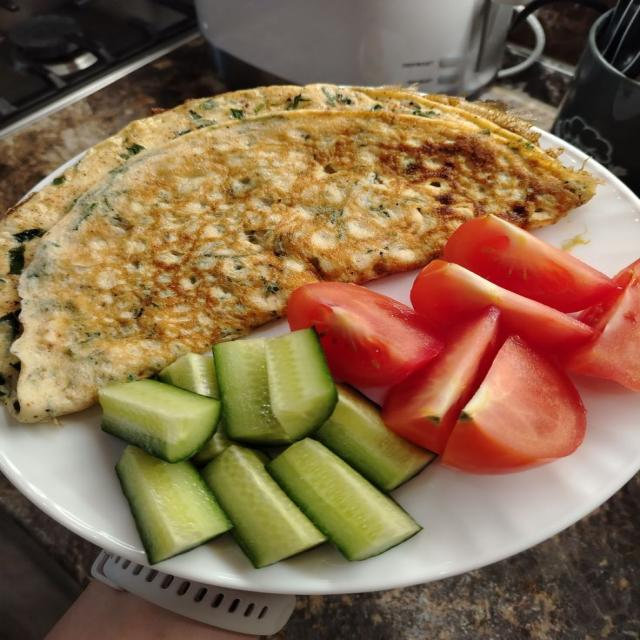omelette: (13, 109, 593, 421)
